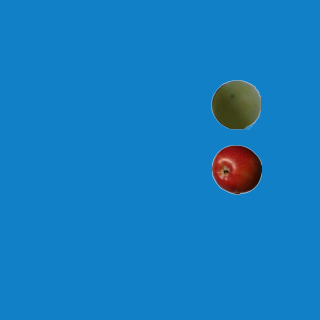Apple Braeburn: (211, 144, 261, 194)
Grape White 4: (210, 79, 260, 129)
